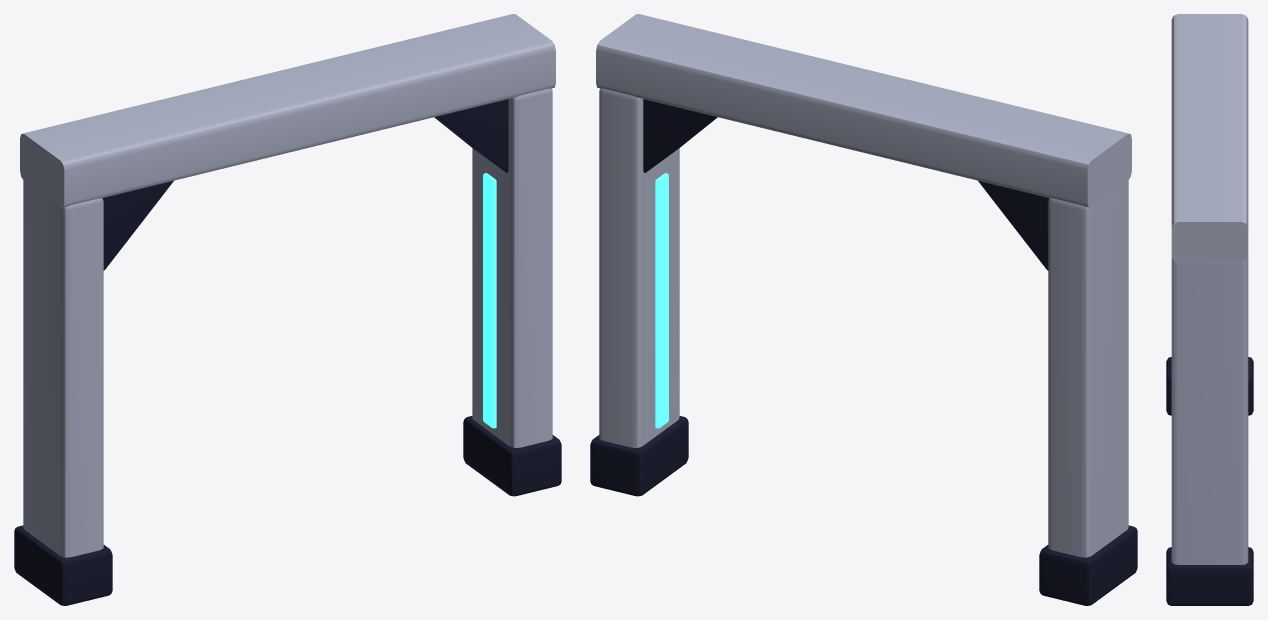
The model's file is corridor_arch.glb.
3 views of the same model, side by side, from view 1: azimuth 30°, elevation 25°; view 2: azimuth 150°, elevation 25°; view 3: azimuth 270°, elevation 25° (orthographic). The views are drawn at different scales.
Visible parts, largest first — view 1: Body; view 2: Body; view 3: Body.
Part boxes in pixels (x1,y1,x2,y2): Body: (14, 14, 561, 605); Body: (590, 14, 1137, 605); Body: (1166, 14, 1253, 605).
Size of the model in its own units: 3.8 by 3.2 by 0.66.
